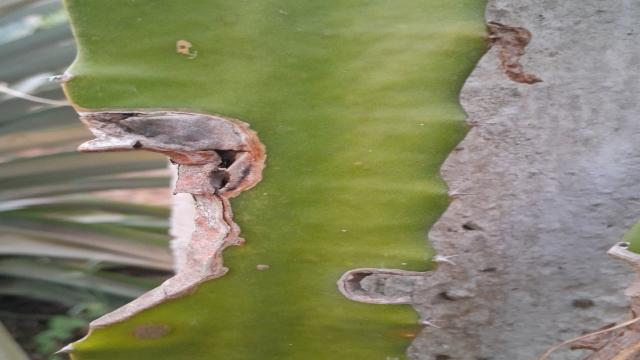stemcanker: (57, 4, 640, 360)
